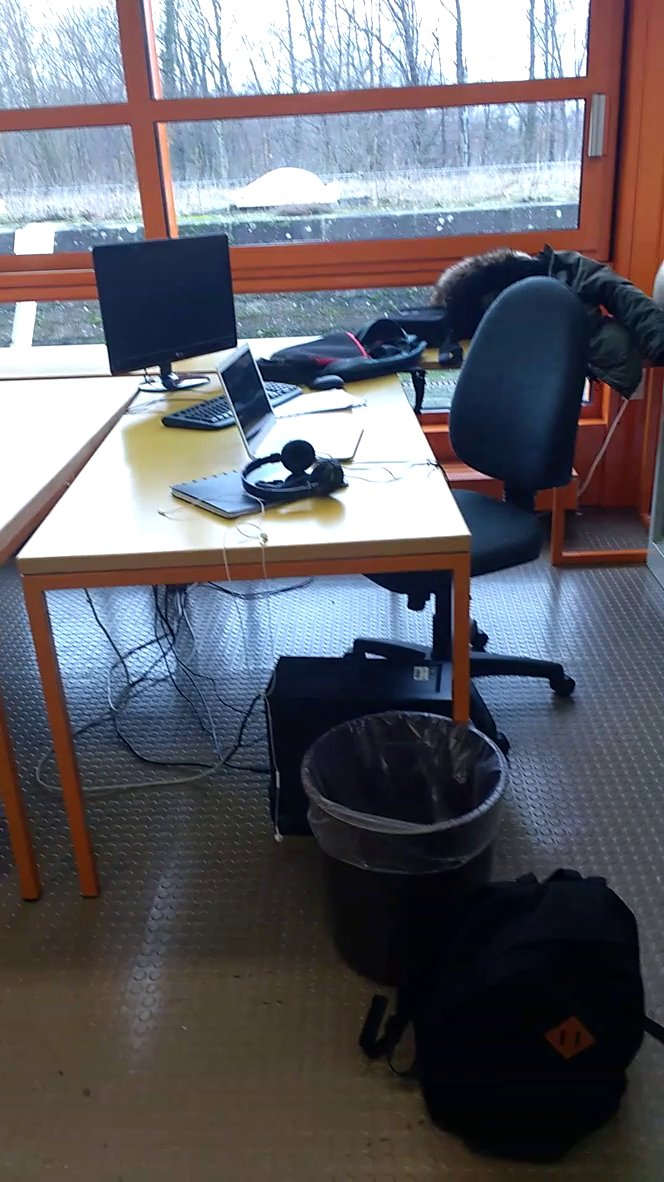bag: (337, 855, 664, 1177)
bin: (296, 695, 515, 920)
chair: (353, 266, 607, 706)
laptop: (208, 340, 371, 476)
